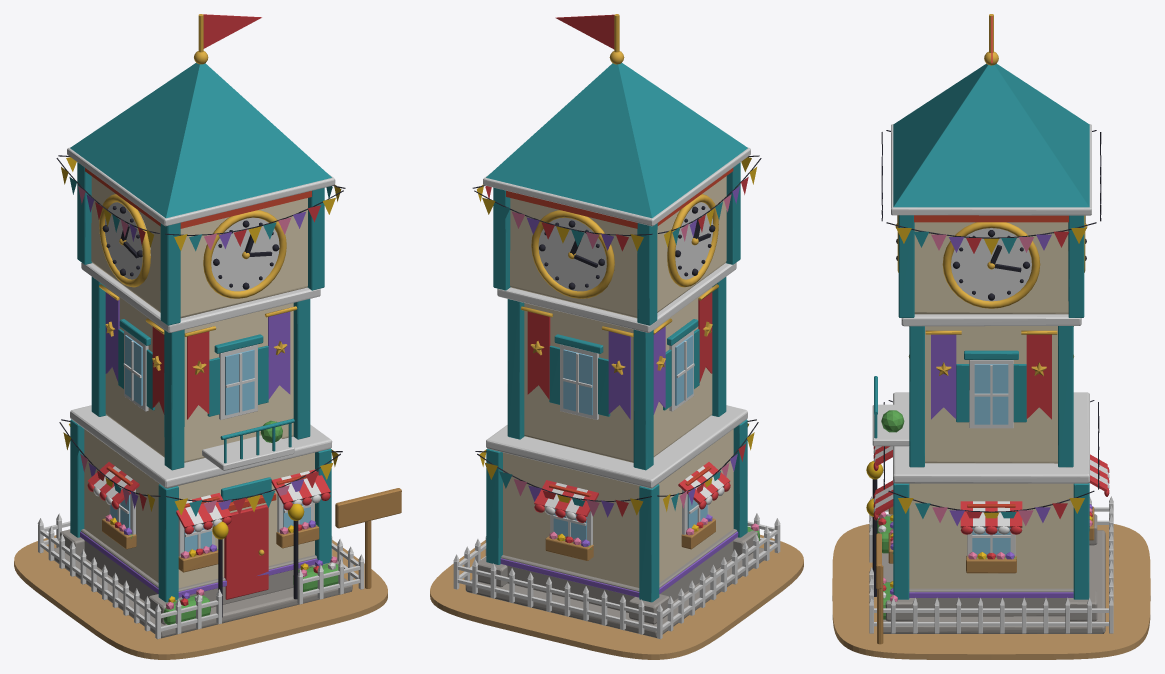
The model's file is clock-tower-stage-5-merged.686240e9.glb.
3 renders of one model, left to right at view 1: azimuth 30°, elevation 25°; view 2: azimuth 150°, elevation 25°; view 3: azimuth 270°, elevation 25°, orthographic. The views are drawn at different scales.
Visible parts, largest first — view 1: ClockTower_Stage5__T_vcol; view 2: ClockTower_Stage5__T_vcol; view 3: ClockTower_Stage5__T_vcol.
Boxes of the visible parts, box(x1,y1,x2,y2) form: ClockTower_Stage5__T_vcol: box(14, 14, 401, 659); ClockTower_Stage5__T_vcol: box(430, 14, 803, 659); ClockTower_Stage5__T_vcol: box(832, 14, 1150, 659).
Size of the model in its own units: 4.97 by 9.62 by 4.8.
